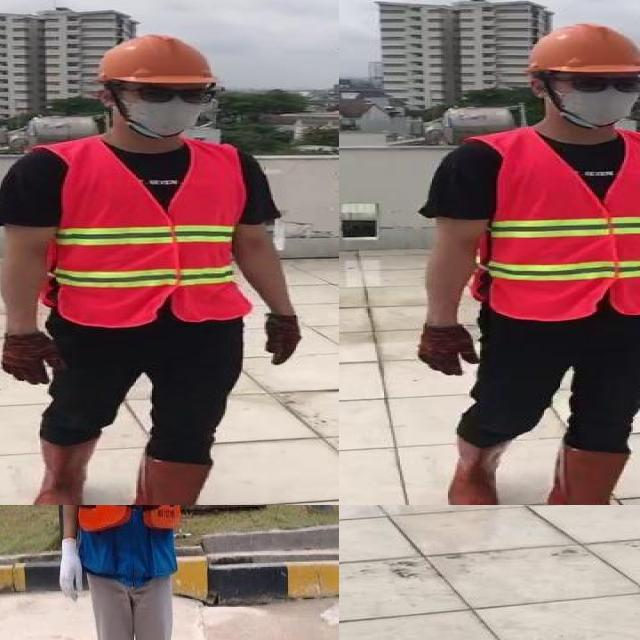boots: (543, 443, 640, 505), (130, 453, 244, 505), (32, 434, 102, 505), (446, 434, 512, 505)
face_mask: (544, 63, 640, 128), (118, 82, 212, 138)
glasses: (559, 67, 640, 99), (127, 80, 216, 108)
hand_glove: (0, 333, 68, 385), (420, 324, 480, 376), (260, 313, 305, 365)
head_helmet: (517, 18, 640, 79), (88, 34, 223, 88)
person: (0, 28, 326, 505), (400, 22, 640, 505), (35, 505, 218, 640)
vest: (49, 143, 248, 323), (469, 129, 640, 314), (69, 505, 185, 580)
